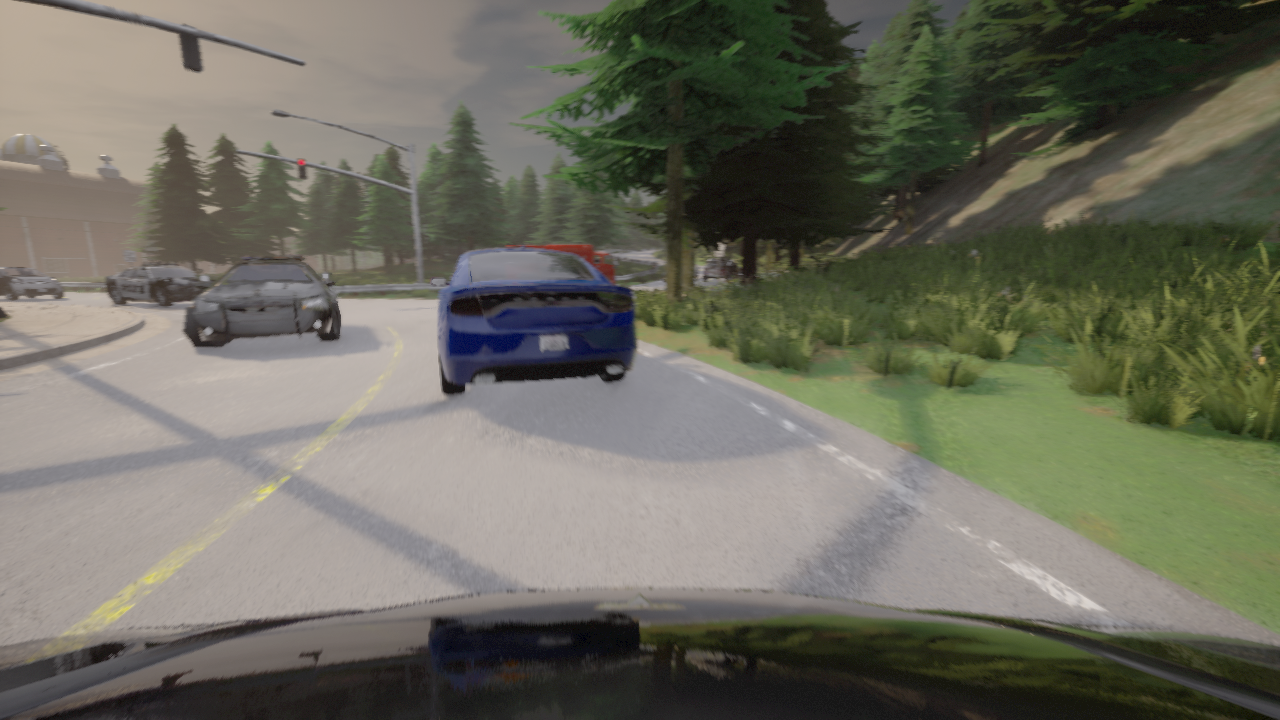cyclist: (0, 588, 1279, 719), (430, 243, 636, 395), (184, 256, 341, 347), (106, 262, 217, 306), (505, 244, 618, 284), (702, 258, 740, 282), (662, 264, 699, 282)
